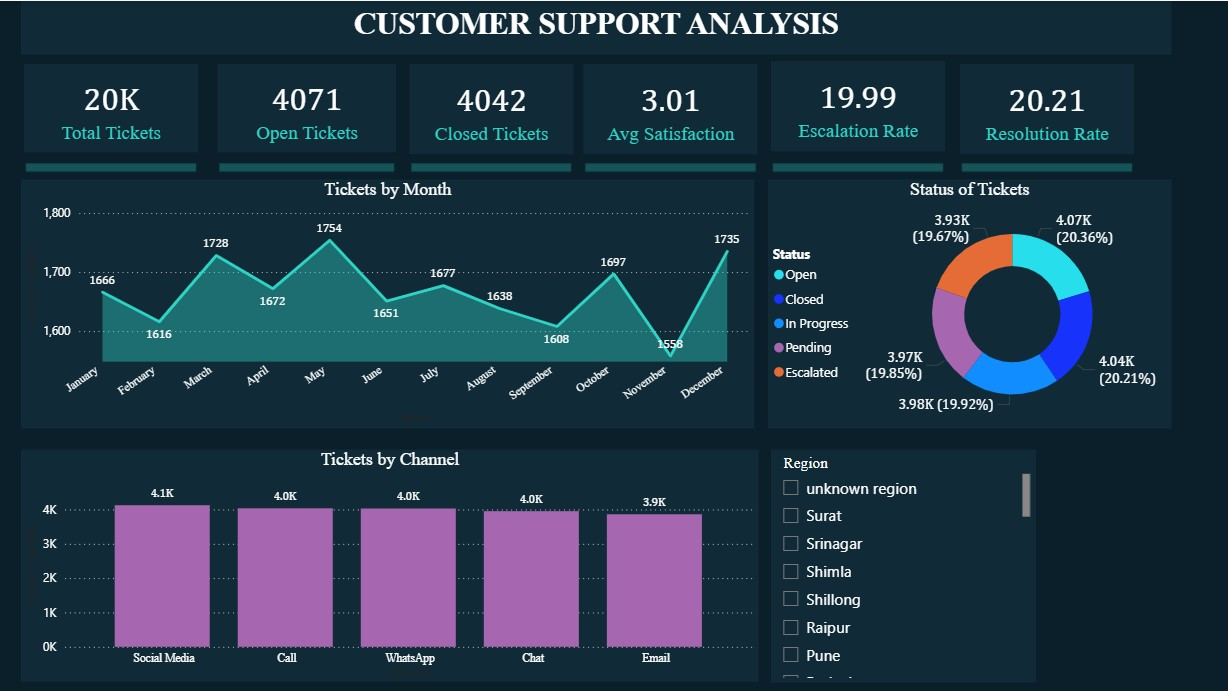

The dashboard page shown, as its layout file describes it:
{"tool":"powerbi","page":{"name":"Customer support","canvas":[1280,720],"ordinal":0},"visuals":[{"type":"card","fields":{"Values":["Tickets.Total Tickets"]},"box":[24.4,65.6,181.3,92.2],"z":0},{"type":"card","fields":{"Values":["Tickets.Open Tickets"]},"box":[226.1,65.6,186,92.2],"z":1000},{"type":"card","fields":{"Values":["Tickets.Closed Tickets"]},"box":[426.1,65.6,170.4,93.8],"z":2000},{"type":"card","fields":{"Values":["Tickets.Avg Satisfaction"]},"box":[607.4,65.6,181.3,93.8],"z":3000},{"type":"card","fields":{"Values":["Tickets.Escalation Rate"]},"box":[802.8,62.5,181.3,93.8],"z":4000},{"type":"shape","box":[426.1,167.2,170.4,12.5],"z":5000},{"type":"shape","box":[24.4,167.2,181.3,12.5],"z":6000},{"type":"shape","box":[226.1,167.2,186,12.5],"z":7000},{"type":"shape","box":[607.4,167.2,181.3,12.5],"z":8000},{"type":"shape","box":[802.8,167.2,181.3,12.5],"z":9000},{"type":"areaChart","title":"Tickets by Month","fields":{"Category":["Tickets.CreatedDate.Variation.Date Hierarchy.Month"],"Y":["CountNonNull(Tickets.TicketID)"]},"box":[21.9,186,764.3,259.5],"z":10000},{"type":"textbox","box":[21.9,0,1198.8,56.3],"z":11000},{"type":"donutChart","title":"Status of Tickets","fields":{"Category":["Tickets.Status"],"Y":["CountNonNull(Tickets.TicketID)"]},"box":[800.2,186,420.4,259.5],"z":12000},{"type":"clusteredColumnChart","title":"Tickets by Channel","fields":{"Y":["CountNonNull(Tickets.TicketID)"],"Category":["Tickets.Channel"]},"box":[21.9,467.3,769,242.3],"z":13000},{"type":"slicer","fields":{"Values":["Tickets.Region"]},"box":[803.4,467.3,275.1,242.3],"z":14000},{"type":"card","fields":{"Values":["Tickets.Resolution Rate"]},"box":[1000.3,65.6,181.3,93.8],"z":17000},{"type":"shape","box":[1000.3,167.2,181.3,12.5],"z":18000}]}

Visuals, with their boxes in screenshot pixels (x1, y1, x2, y2), scaled from the page's 1280x720 canvas onto the 1228x691 screenshot:
card - Tickets.Total Tickets: (23,63,197,151)
card - Tickets.Open Tickets: (217,63,395,151)
card - Tickets.Closed Tickets: (409,63,572,153)
card - Tickets.Avg Satisfaction: (583,63,757,153)
card - Tickets.Escalation Rate: (770,60,944,150)
shape: (409,160,572,172)
shape: (23,160,197,172)
shape: (217,160,395,172)
shape: (583,160,757,172)
shape: (770,160,944,172)
"Tickets by Month" areaChart: (21,179,754,428)
textbox: (21,0,1171,54)
"Status of Tickets" donutChart: (768,179,1171,428)
"Tickets by Channel" clusteredColumnChart: (21,448,759,681)
slicer - Tickets.Region: (771,448,1035,681)
card - Tickets.Resolution Rate: (960,63,1134,153)
shape: (960,160,1134,172)
